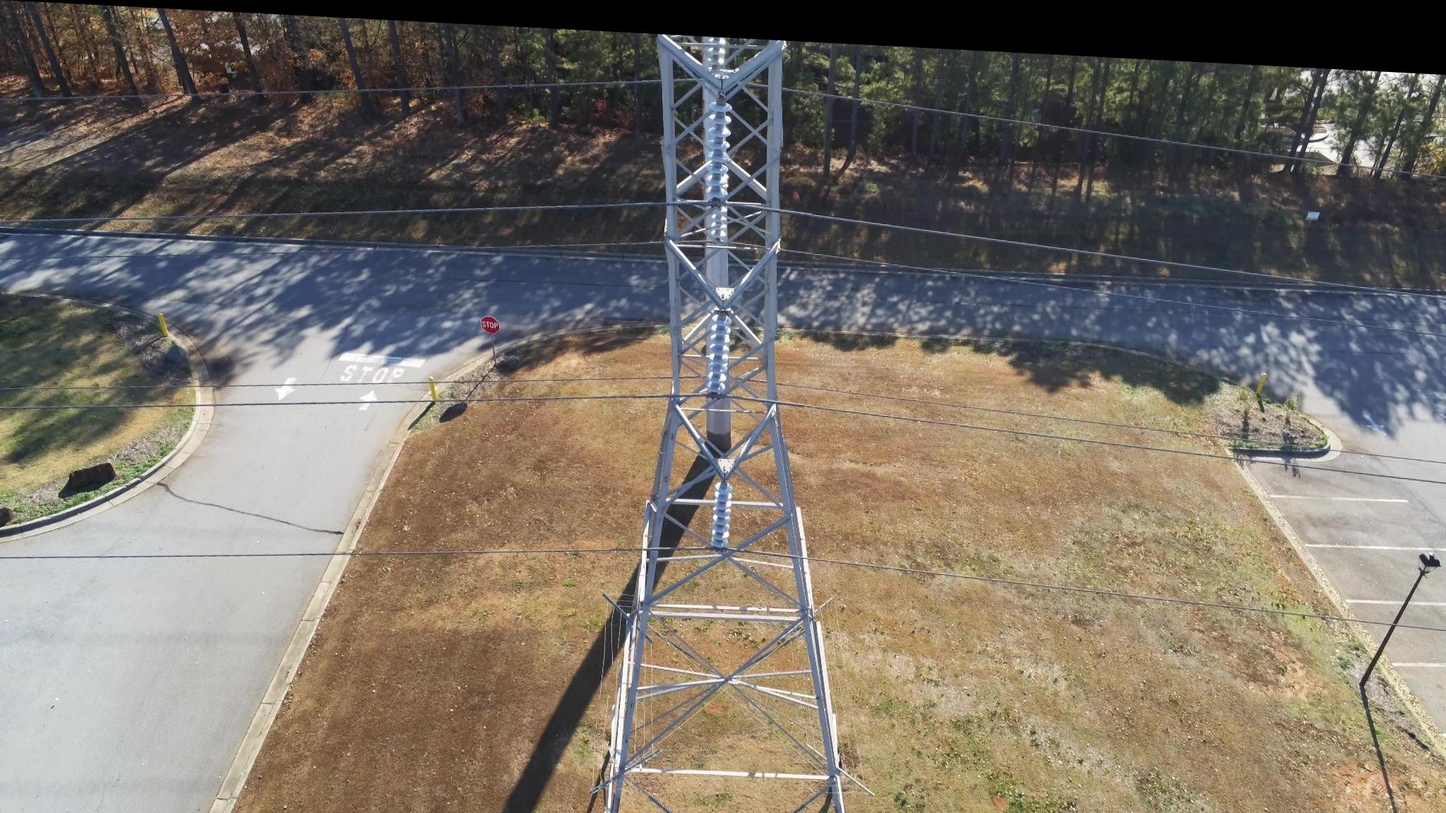tower: (588, 30, 875, 813)
